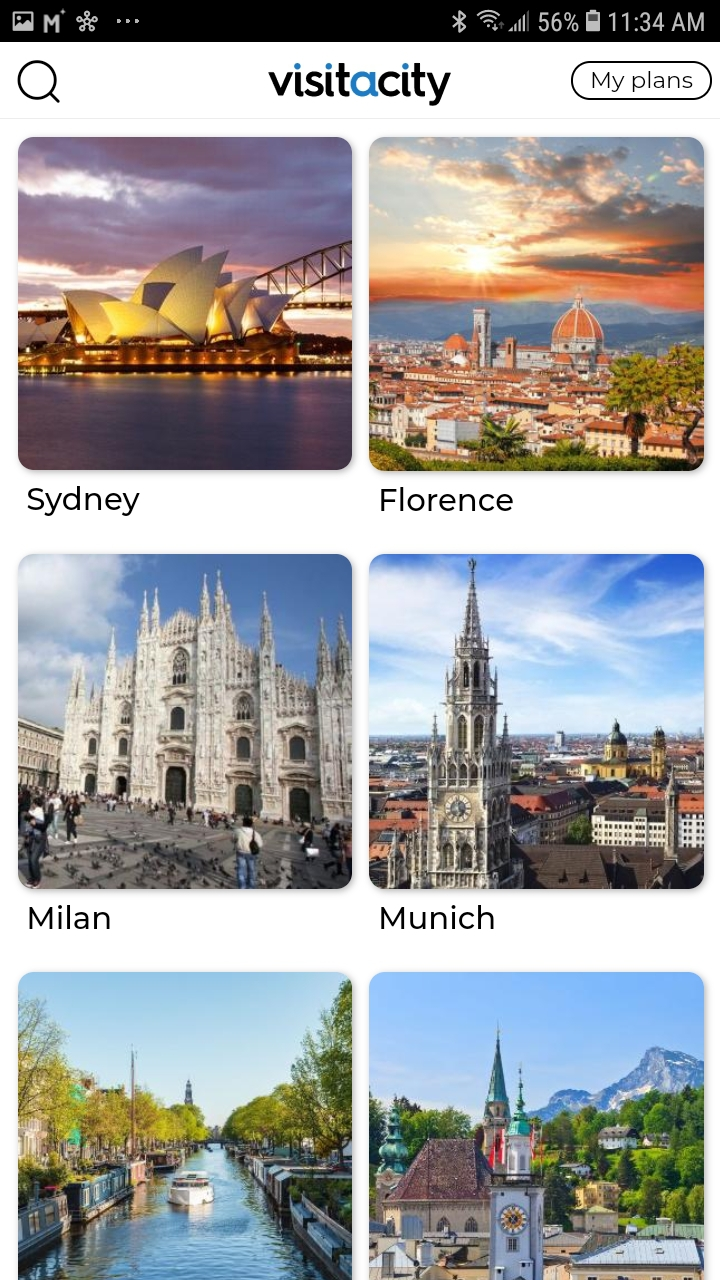Icon: (18, 60, 62, 105)
Image: (369, 554, 705, 890), (369, 137, 705, 472), (19, 554, 353, 890), (18, 137, 353, 471), (369, 972, 704, 1280), (19, 972, 353, 1280), (268, 63, 452, 107)
Text: (28, 486, 141, 518), (381, 487, 514, 512), (381, 904, 495, 929), (29, 904, 111, 930)
TextButton: (571, 61, 713, 102)
UpperTaskBar: (1, 1, 720, 43)
